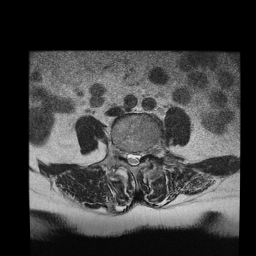CCS_severe_stenosis: (131, 146, 136, 169)
LFS_normal: (141, 144, 147, 161)
LLS_stenosis: (135, 147, 141, 168)
RFS_normal: (119, 143, 125, 163)
RLS_normal: (125, 146, 131, 166)
